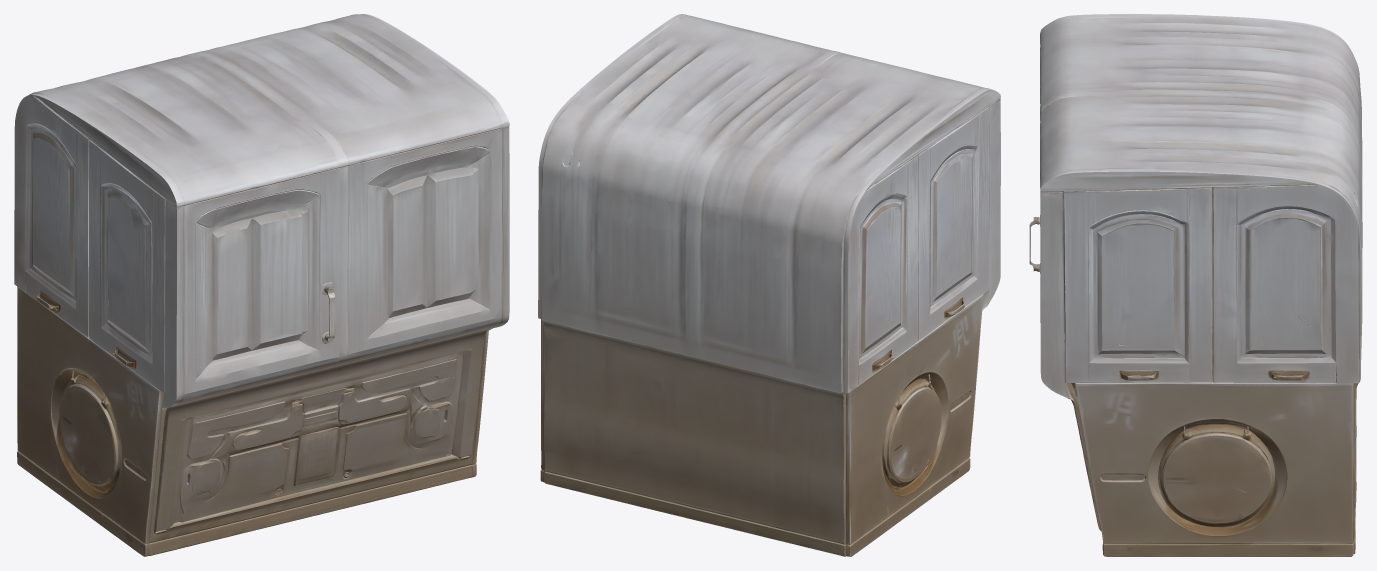
File: kitchen-faucet.glb
The picture shows the model from 3 angles, left to right: view 1: azimuth 30°, elevation 25°; view 2: azimuth 150°, elevation 25°; view 3: azimuth 270°, elevation 25°; orthographic projection. The views are drawn at different scales.
Parts seen in each view (by area): view 1: model; view 2: model; view 3: model.
Boxes of the visible parts, x1=… form: model: x1=14, y1=14, x2=509, y2=556; model: x1=538, y1=14, x2=1000, y2=556; model: x1=1029, y1=14, x2=1362, y2=556.
Bounding box in the file's own units: 1.73 × 1.89 × 1.48.
Materials: 1 (1 with a texture image).
